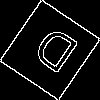D: (25, 24, 81, 83)
